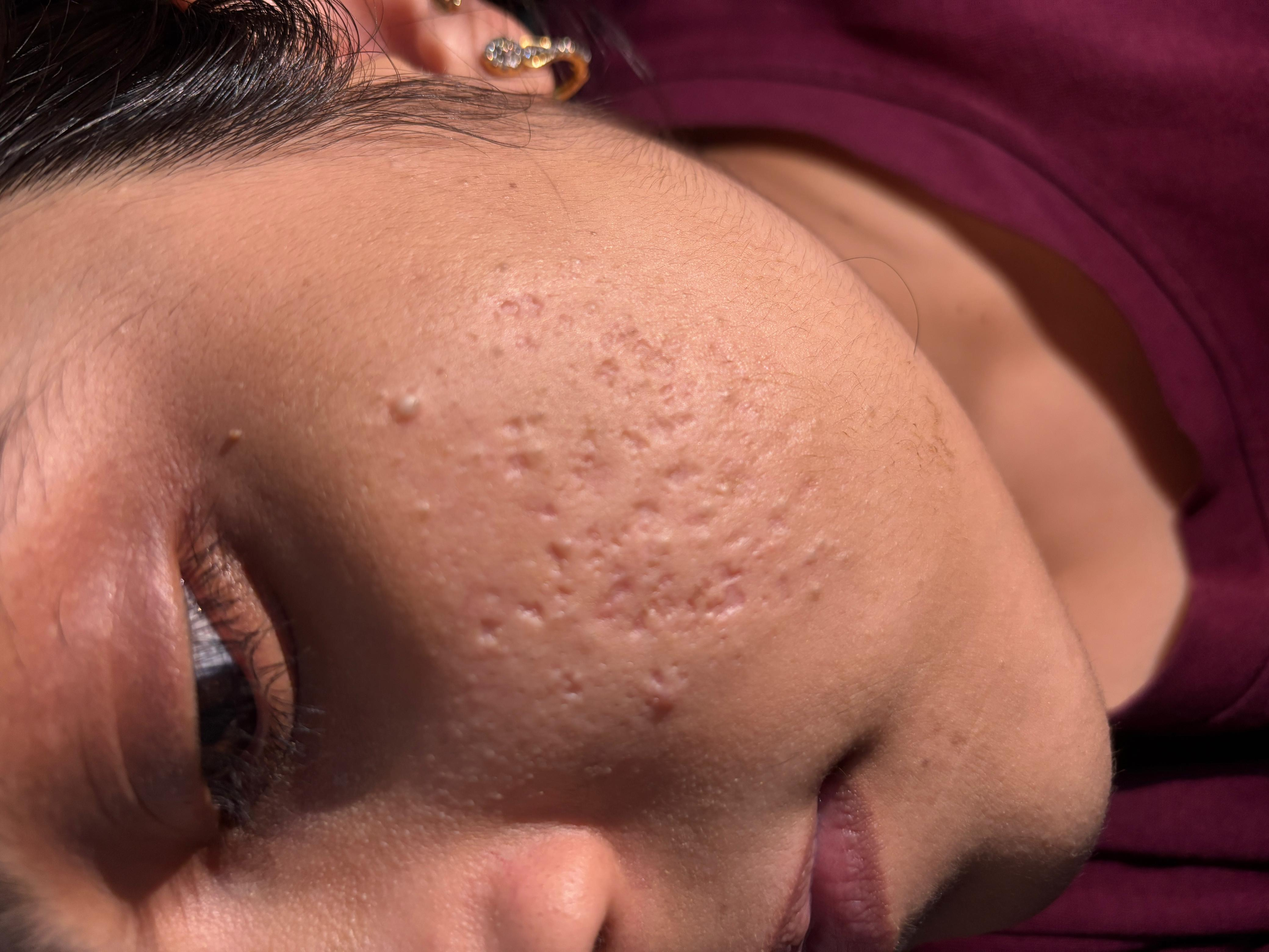macrocomedone: (412, 498, 441, 524), (649, 529, 677, 555), (693, 496, 714, 520), (698, 528, 717, 550)
open_comedone: (797, 535, 832, 564), (712, 380, 740, 413)
papule: (638, 686, 678, 721)
